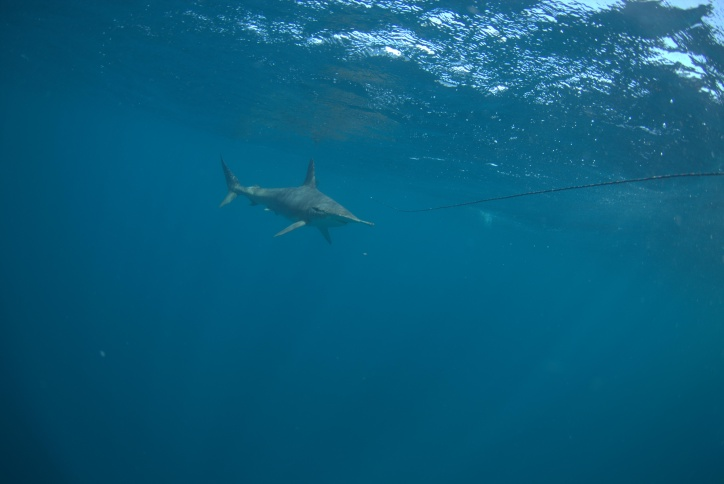Hammer: (189, 151, 389, 264)
